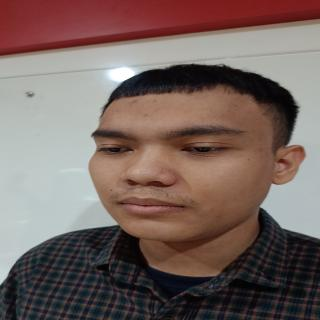Sedih: (84, 87, 282, 250)
